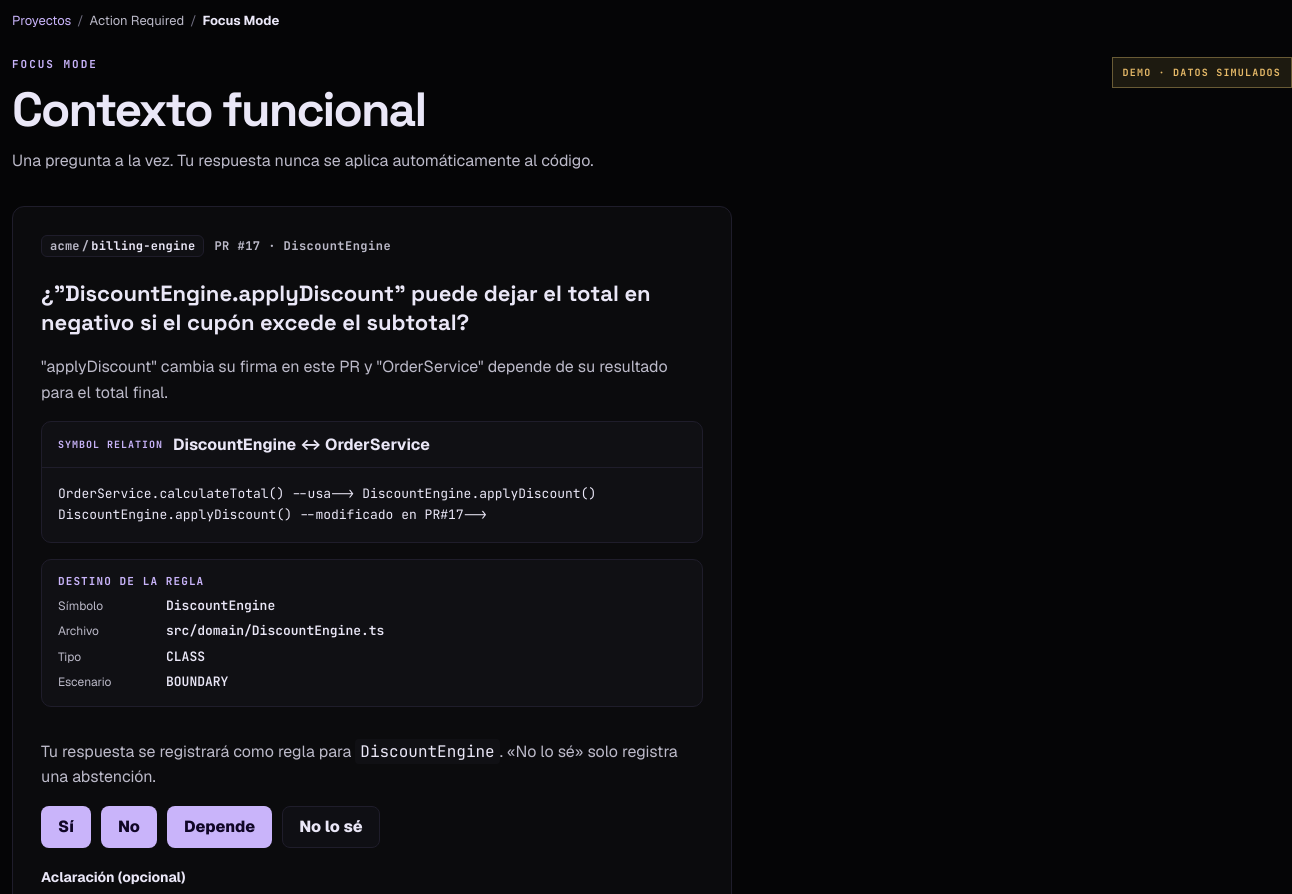
HU36/HU37: si el HEAD cambió, tras responder el Run no se reanuda
Expected: the heading "¿\"DiscountEngine.applyDiscount\" puede dejar el total en negativo si el cupón excede el subtotal?" is shown, [41,279,651,336]
Click the button "Sí" at (66,827), box [41,806,91,848]
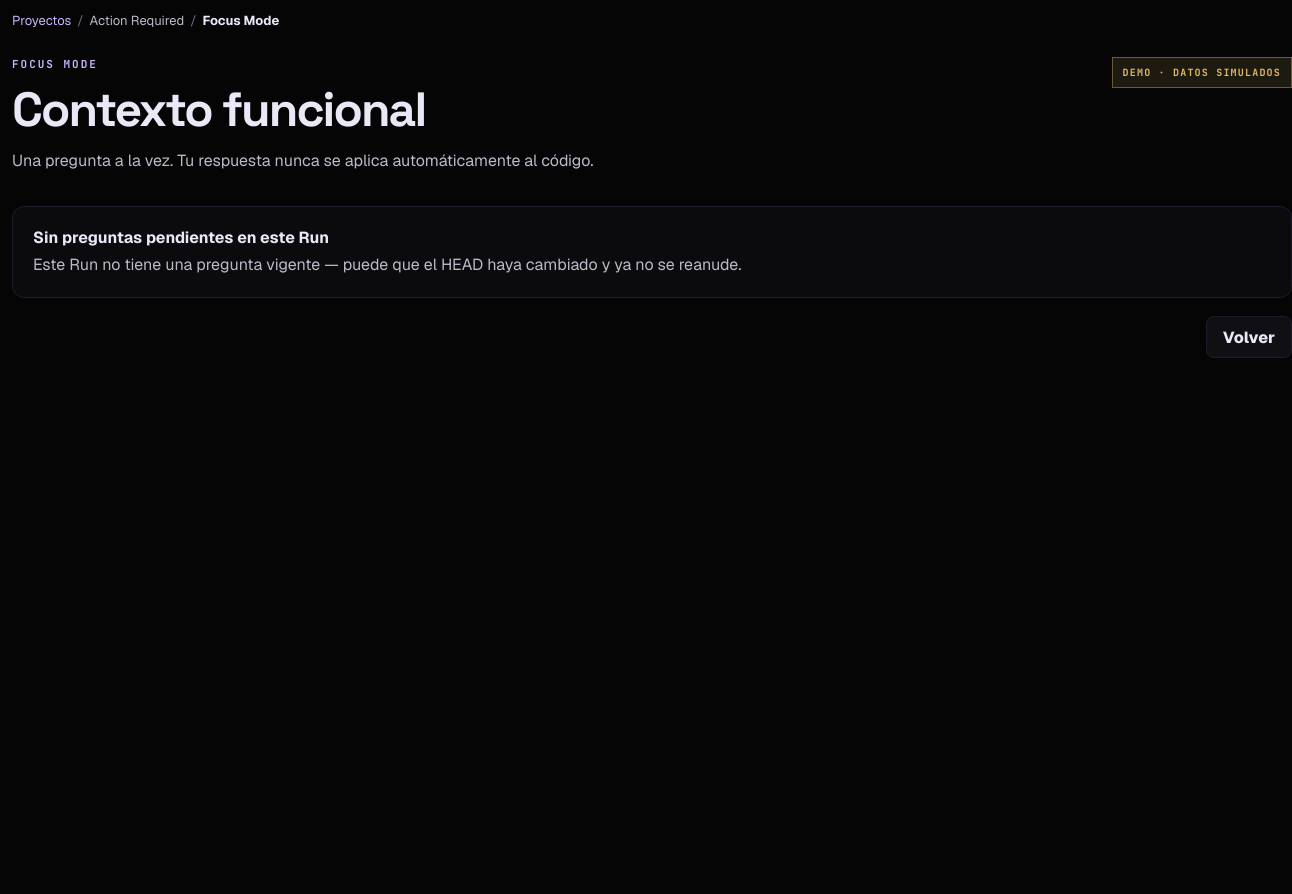
Expected: the text "Sin preguntas pendientes en este Run" is shown, [33,227,329,248]
